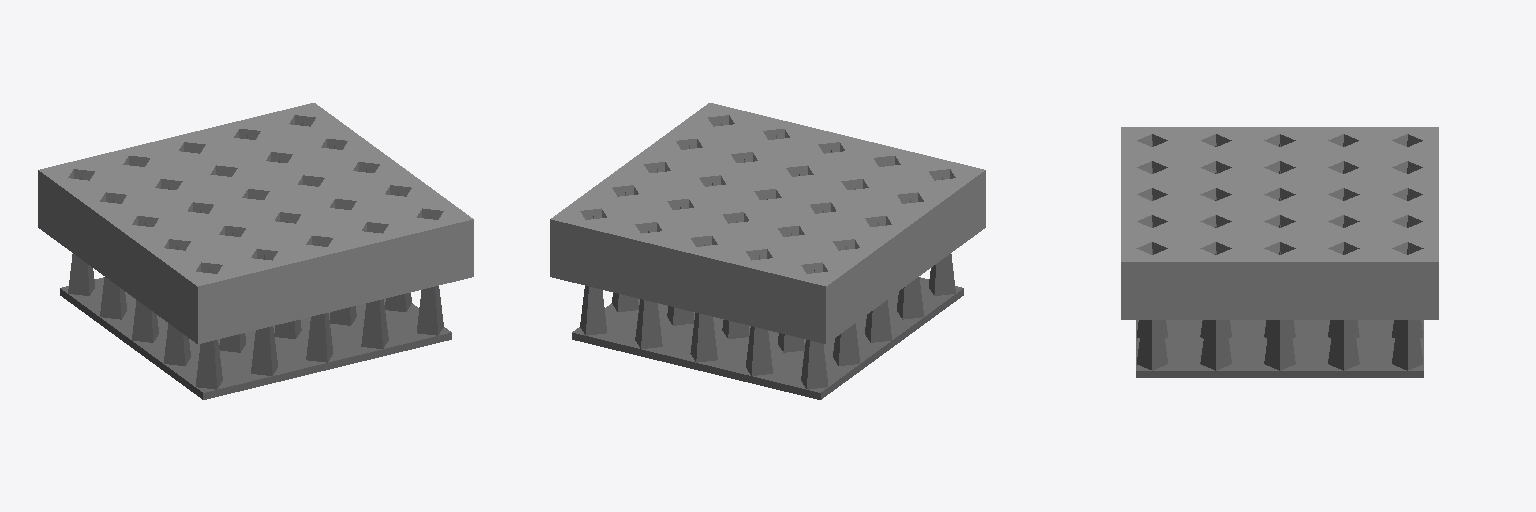
The model's file is trap_floor_spikes.obj.
The picture shows the model from 3 angles: view 1: azimuth 30°, elevation 25°; view 2: azimuth 150°, elevation 25°; view 3: azimuth 270°, elevation 25°; orthographic projection.
Parts seen in each view (by area): view 1: trap_floor_spikes, trap_floor_spikes_2; view 2: trap_floor_spikes, trap_floor_spikes_2; view 3: trap_floor_spikes, trap_floor_spikes_2.
Part boxes in pixels (x1,y1,x2,y2): trap_floor_spikes: (38,103,473,343); trap_floor_spikes_2: (60,123,451,399); trap_floor_spikes: (550,103,985,343); trap_floor_spikes_2: (572,123,963,399); trap_floor_spikes: (1121,127,1438,319); trap_floor_spikes_2: (1136,141,1423,377).
Bounding box in the file's own units: 1 × 0.425 × 1.